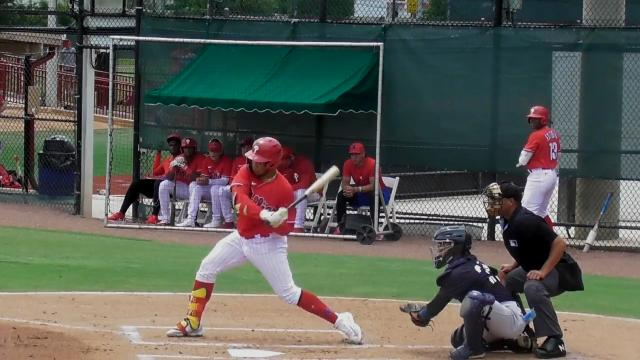bat: (284, 165, 342, 210)
